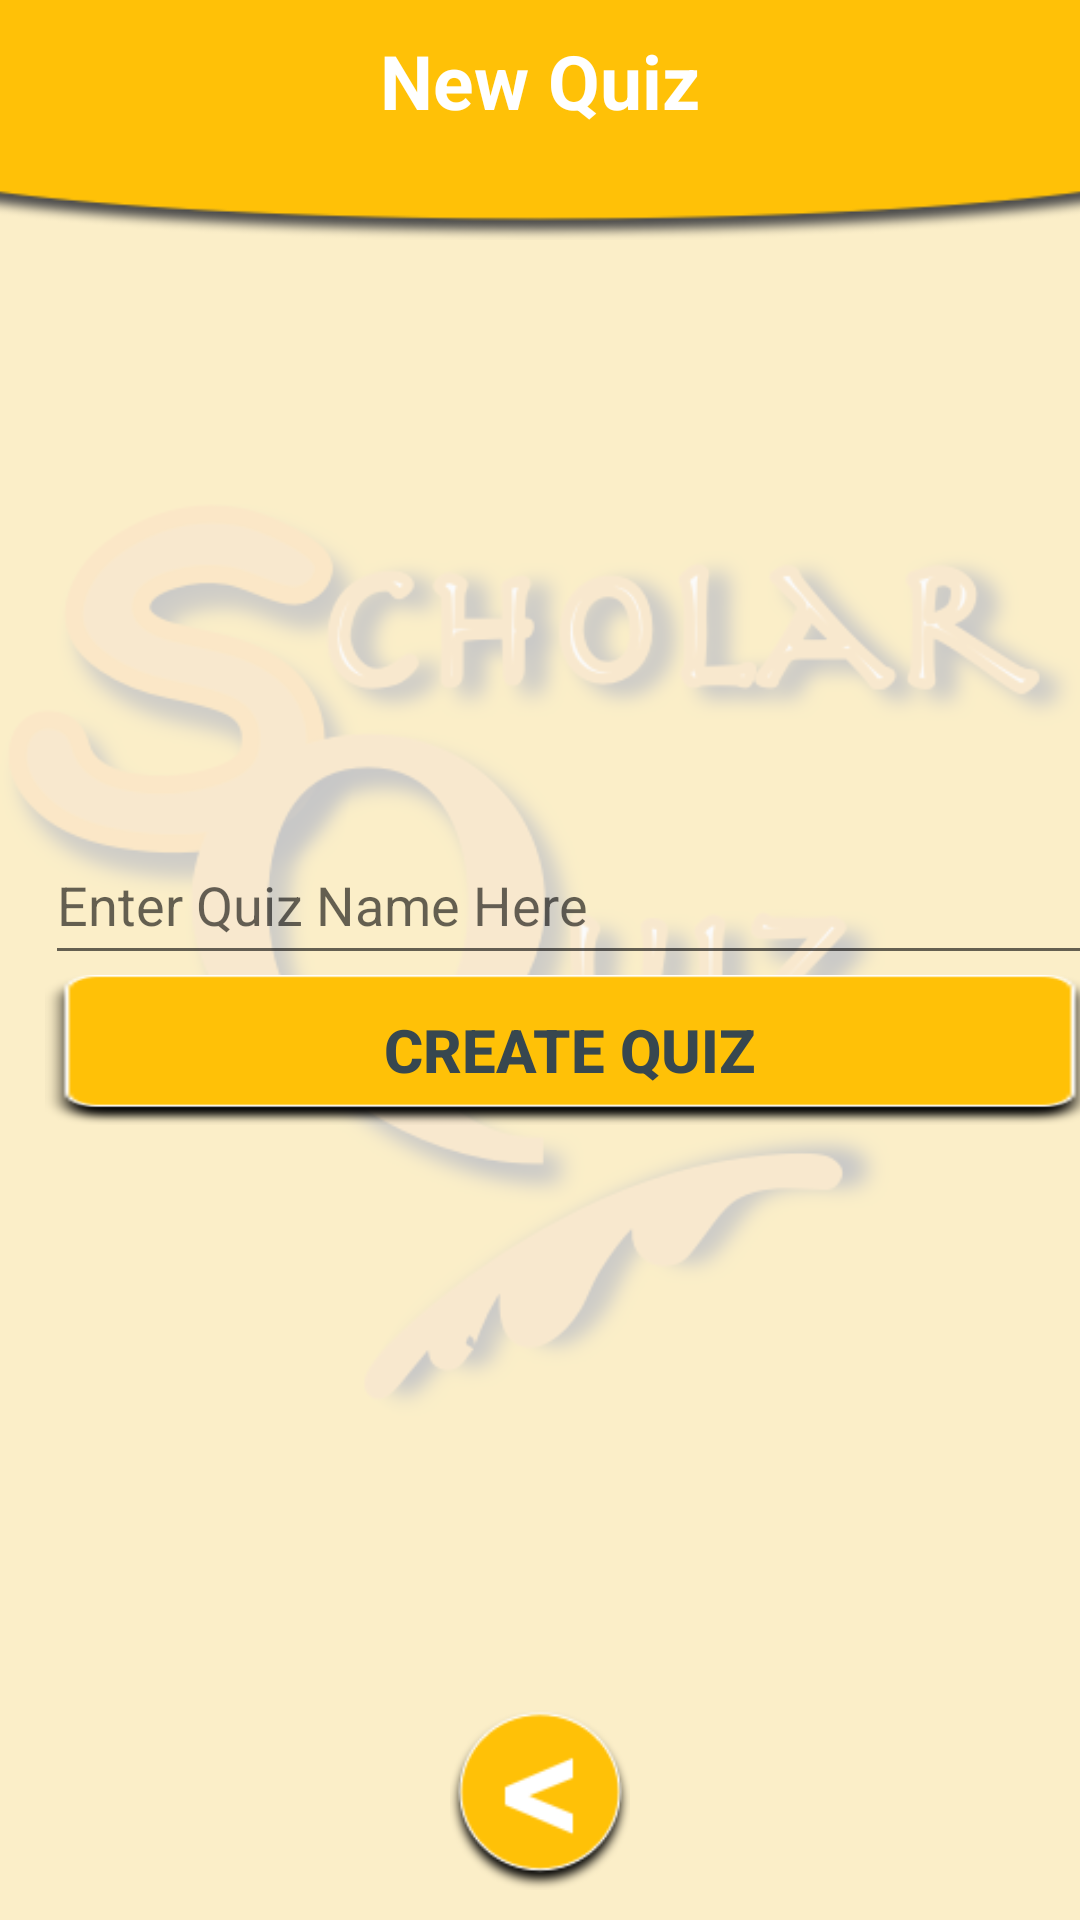

Icons on this 1080px x 1920px Android screen, each with the point to tap as (x,y):
backbutton: (540,1800)
